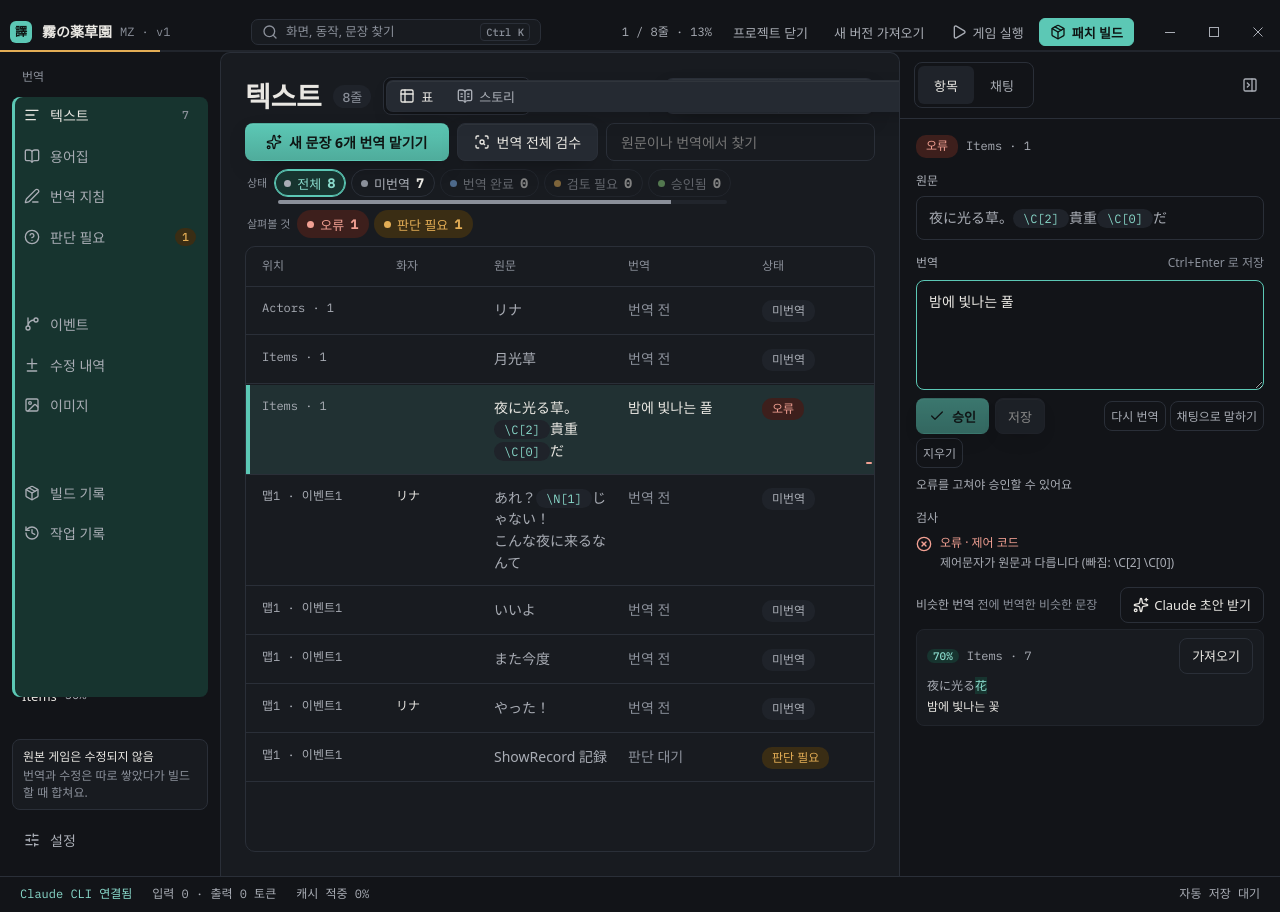
Test: 비슷한 번역과 Claude 초안이 한 묶음에 같이 보인다
The width and height of the screenshot is (1280, 912).
Check: the text "霧の薬草園" is shown, box [42,21,112,43]
Click the button "Claude 초안 받기" at (1192, 605), box [1120,587,1264,623]
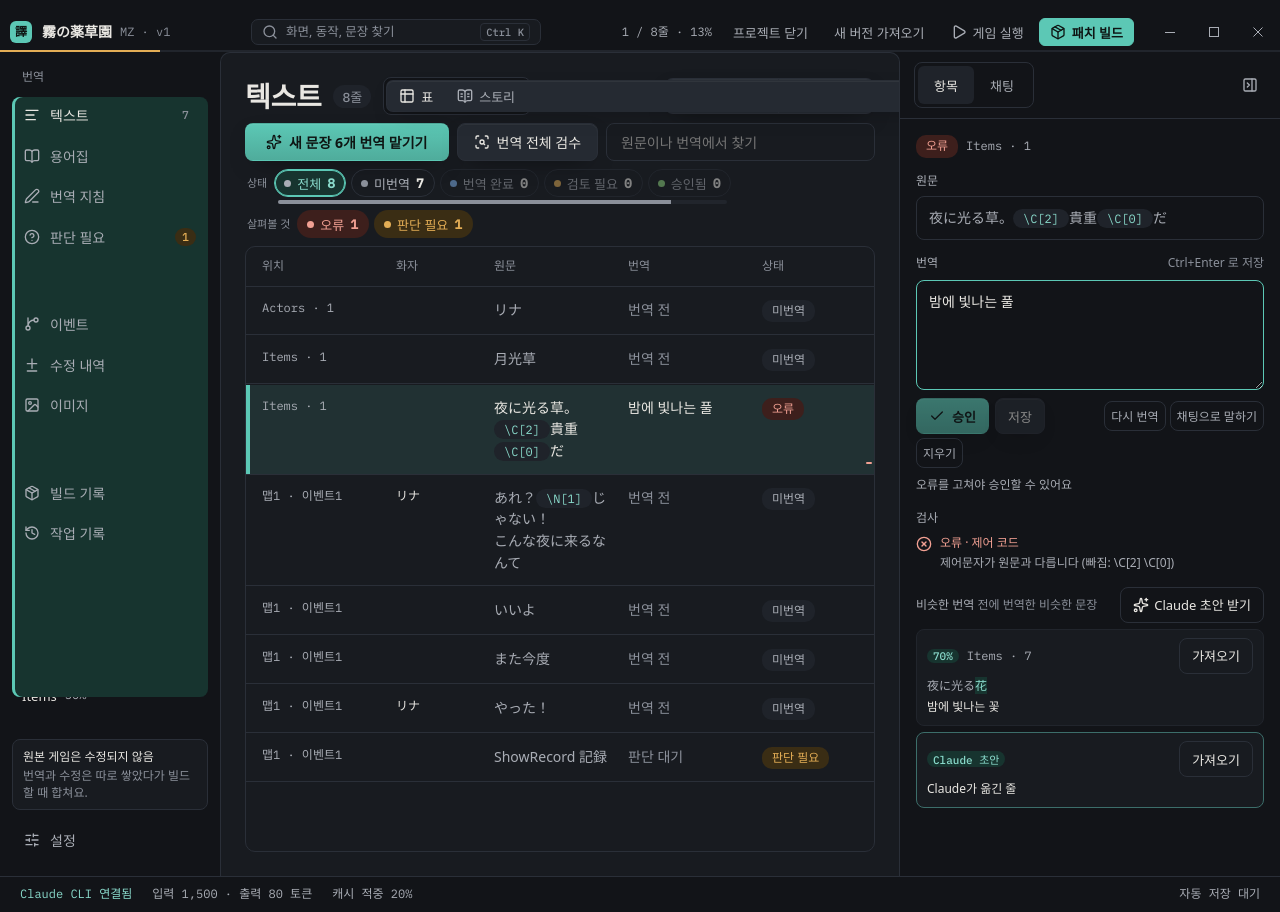
Check: the text "Claude가 옮긴 줄" is shown, box [927,780,1016,797]
Check: the number of buttons "가져오기" is 2, box [1179,638,1253,674]; [1179,741,1253,777]
